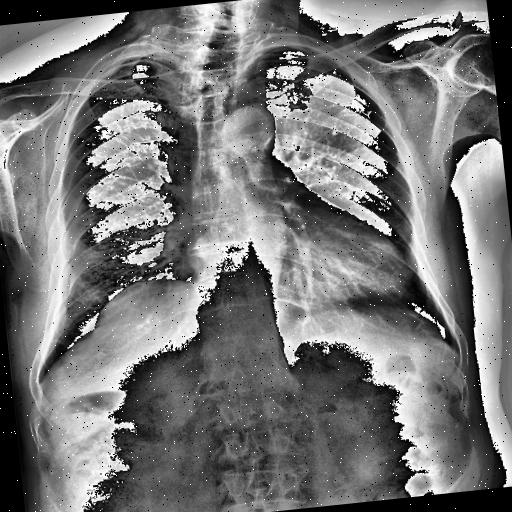0- Aortic enlargement: (220, 104, 279, 170), (221, 102, 278, 152)
11- Pleural thickening: (36, 303, 72, 358), (87, 60, 130, 83)
3- Cardiomegaly: (180, 204, 413, 324), (189, 219, 410, 319), (187, 236, 411, 316)
7- Lung Opacity: (36, 303, 72, 358)
9- Other lesion: (18, 271, 208, 396)
